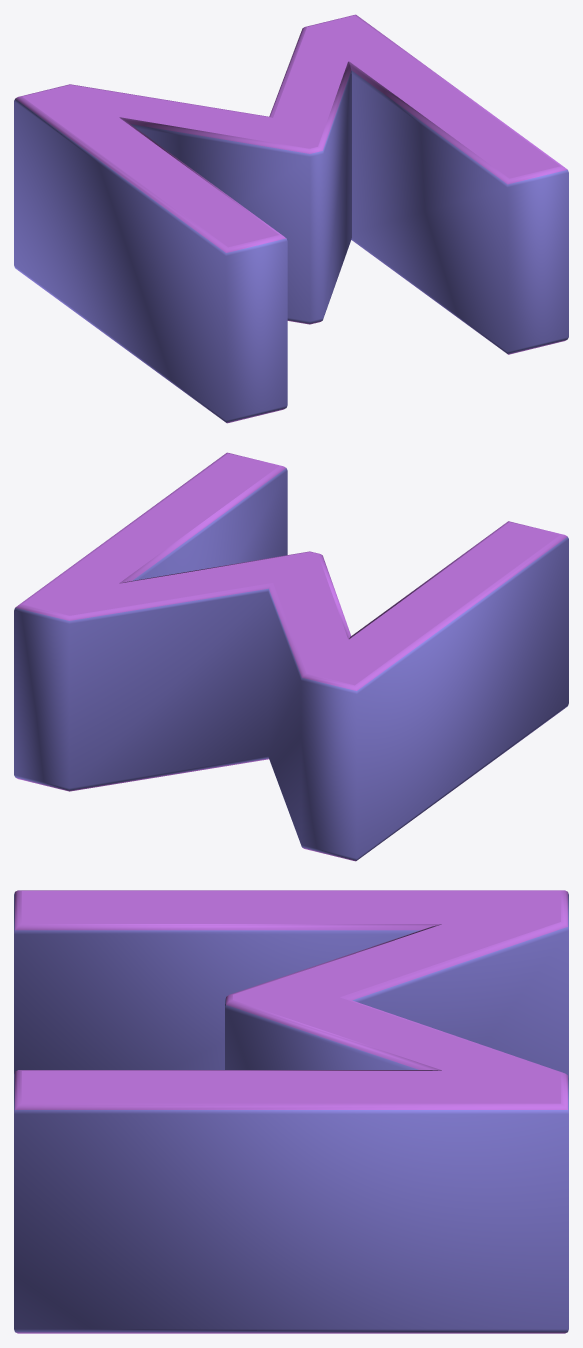
File: letter_M.fbx
3 renders of one model, top to bottom at view 1: azimuth 30°, elevation 25°; view 2: azimuth 150°, elevation 25°; view 3: azimuth 270°, elevation 25°, orthographic. The views are drawn at different scales.
Parts seen in each view (by area): view 1: Letter_M; view 2: Letter_M; view 3: Letter_M.
Boxes of the visible parts, bbox=[...] form: Letter_M: bbox=[14, 14, 568, 423]; Letter_M: bbox=[14, 452, 568, 861]; Letter_M: bbox=[14, 890, 568, 1333].
Size of the model in its own units: 65.6 by 32 by 70.2.
